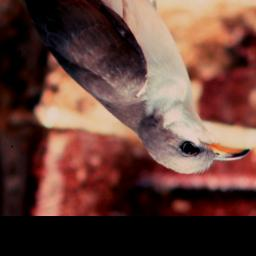Cuckoo: (0, 0, 251, 175)
